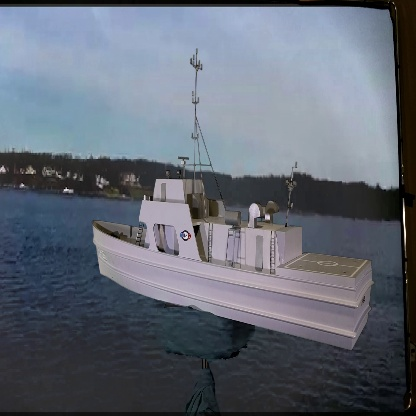YP689: (91, 48, 374, 352)
